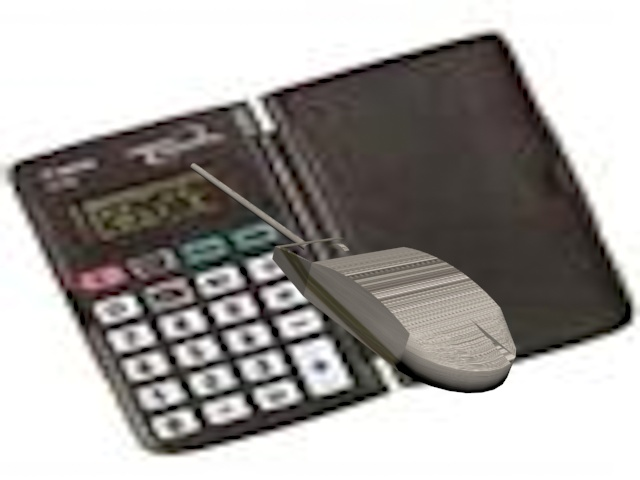mouse: (185, 161, 528, 400)
